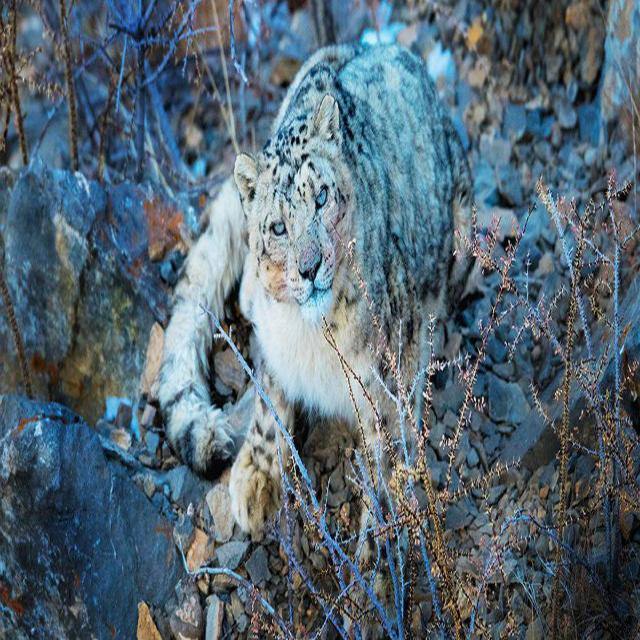leopard: (156, 44, 478, 537)
